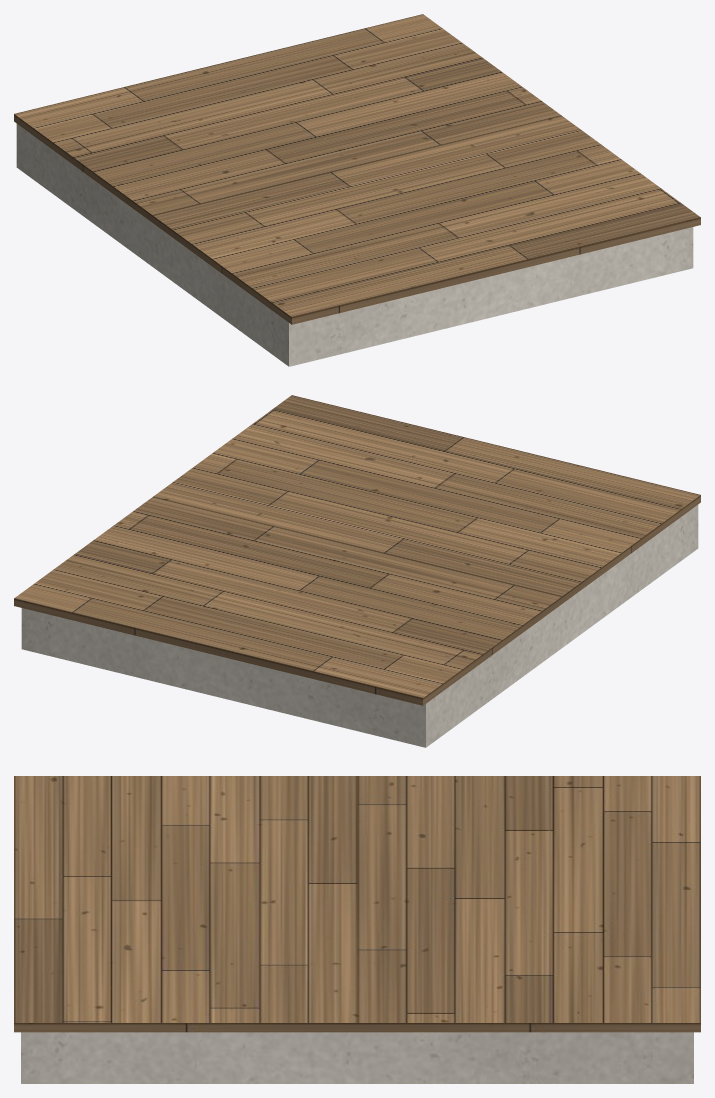
File: floor_wood_c_e30_0_0_0.glb
3 renders of one model, top to bottom at view 1: azimuth 30°, elevation 25°; view 2: azimuth 150°, elevation 25°; view 3: azimuth 270°, elevation 25°, orthographic. The views are drawn at different scales.
Parts seen in each view (by area): view 1: floor_wood_c_e30_0_0_0_attic, floor_wood_c_e30_0_0_0_plaster; view 2: floor_wood_c_e30_0_0_0_attic, floor_wood_c_e30_0_0_0_plaster; view 3: floor_wood_c_e30_0_0_0_attic, floor_wood_c_e30_0_0_0_plaster.
Part boxes in pixels (x1,y1,x2,y2): floor_wood_c_e30_0_0_0_attic: (14, 14, 700, 324); floor_wood_c_e30_0_0_0_plaster: (16, 124, 693, 366); floor_wood_c_e30_0_0_0_attic: (14, 395, 700, 705); floor_wood_c_e30_0_0_0_plaster: (21, 505, 698, 747); floor_wood_c_e30_0_0_0_attic: (14, 776, 700, 1032); floor_wood_c_e30_0_0_0_plaster: (21, 1032, 693, 1083).
Size of the model in its own units: 1.7 by 0.205 by 2.
Materials: 2 (2 with a texture image).
